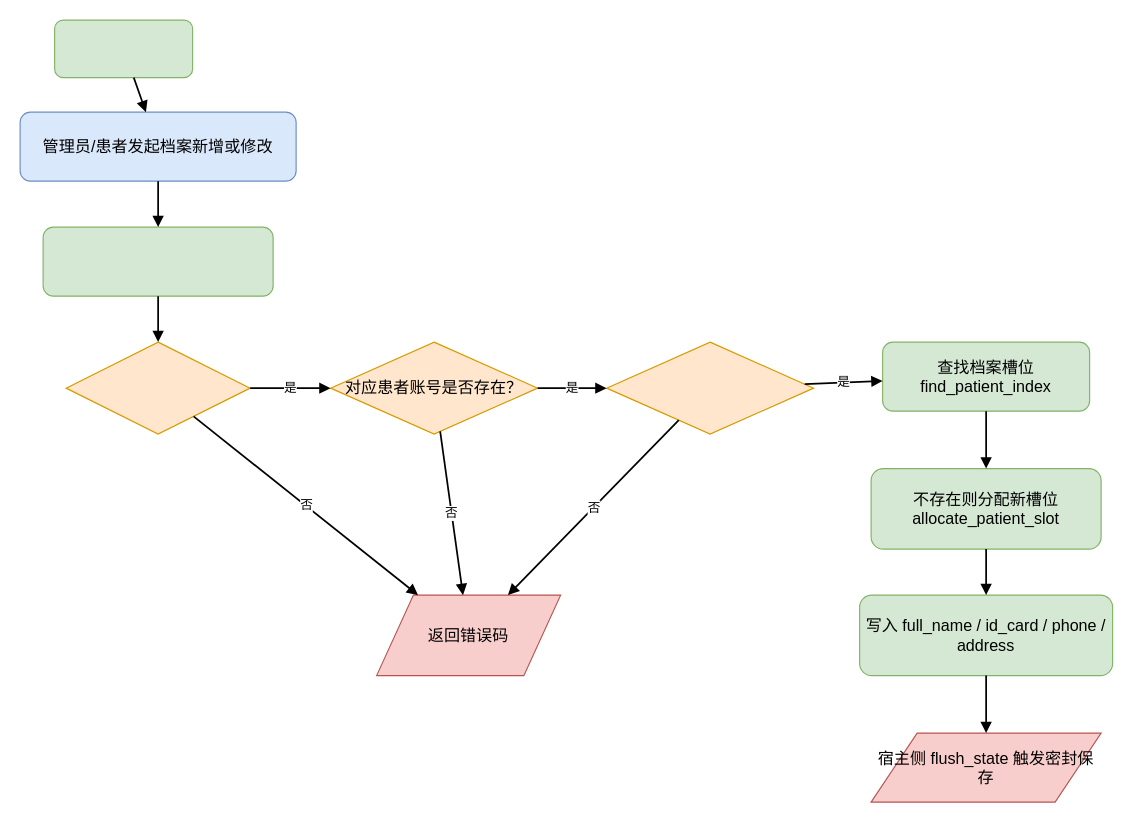
The diagram is 1133 pixels wide and 822 high, and some of its shapes have lost their labels. Here are the shapes that lost their labels. From the top down, the box of each, then its label:
(53, 19, 193, 78): 开始
(42, 226, 273, 296): ecall_upsert_patient_profile
(65, 341, 250, 434): 输入是否合法？
(605, 341, 814, 434): 是否有编辑权限？ 管理员或本人
